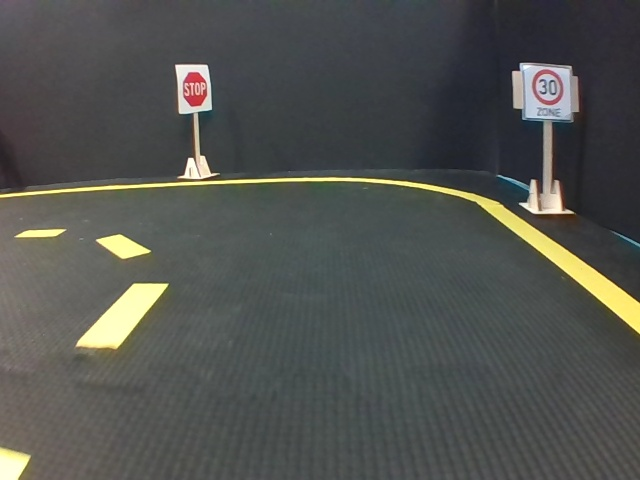stop: (522, 61, 571, 118), (175, 64, 211, 114)
